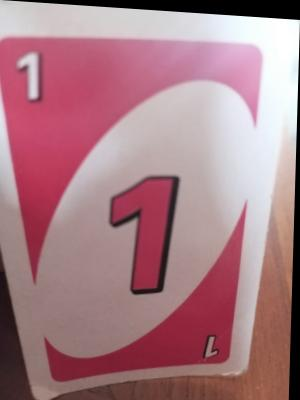num_1: (96, 159, 196, 304), (8, 44, 56, 111)
